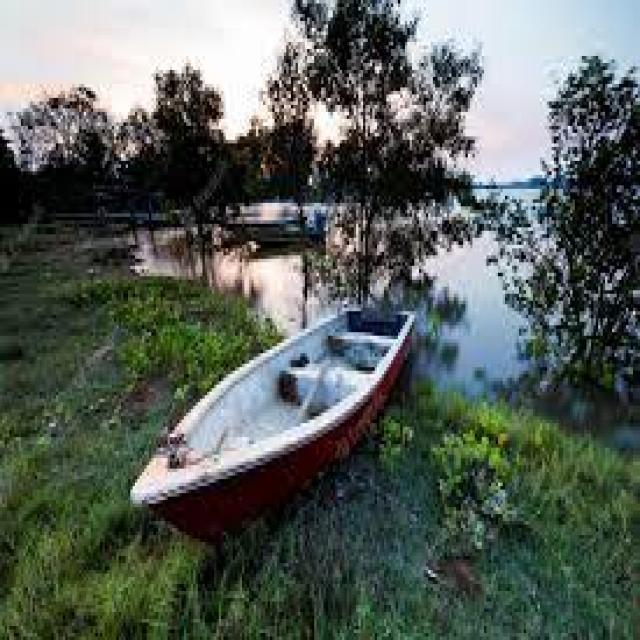ship2: (130, 311, 416, 547)
